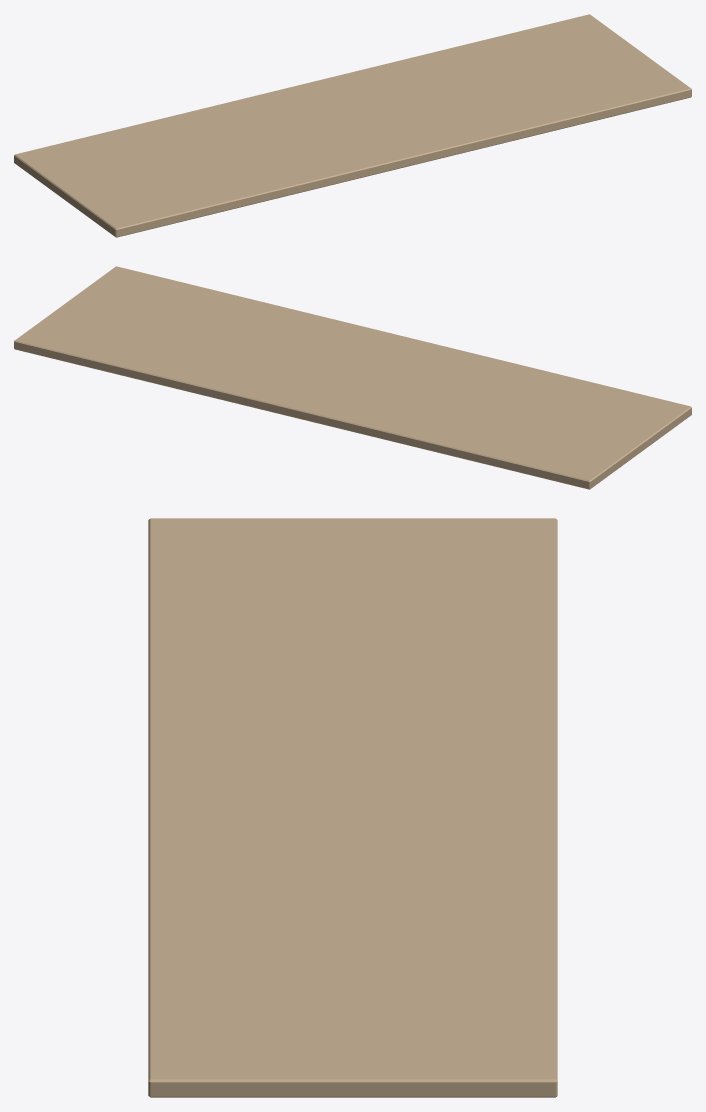
The model's file is worktop-run-2m-9f1f4c44.glb.
3 renders of one model, top to bottom at view 1: azimuth 30°, elevation 25°; view 2: azimuth 150°, elevation 25°; view 3: azimuth 270°, elevation 25°, orthographic. The views are drawn at different scales.
Visible parts, largest first — view 1: worktop-run-2m; view 2: worktop-run-2m; view 3: worktop-run-2m.
Part boxes in pixels (x1,y1,x2,y2): worktop-run-2m: (14,14,691,237); worktop-run-2m: (14,266,691,489); worktop-run-2m: (148,518,557,1097).
Size of the model in its own units: 2 by 0.03 by 0.6151.
